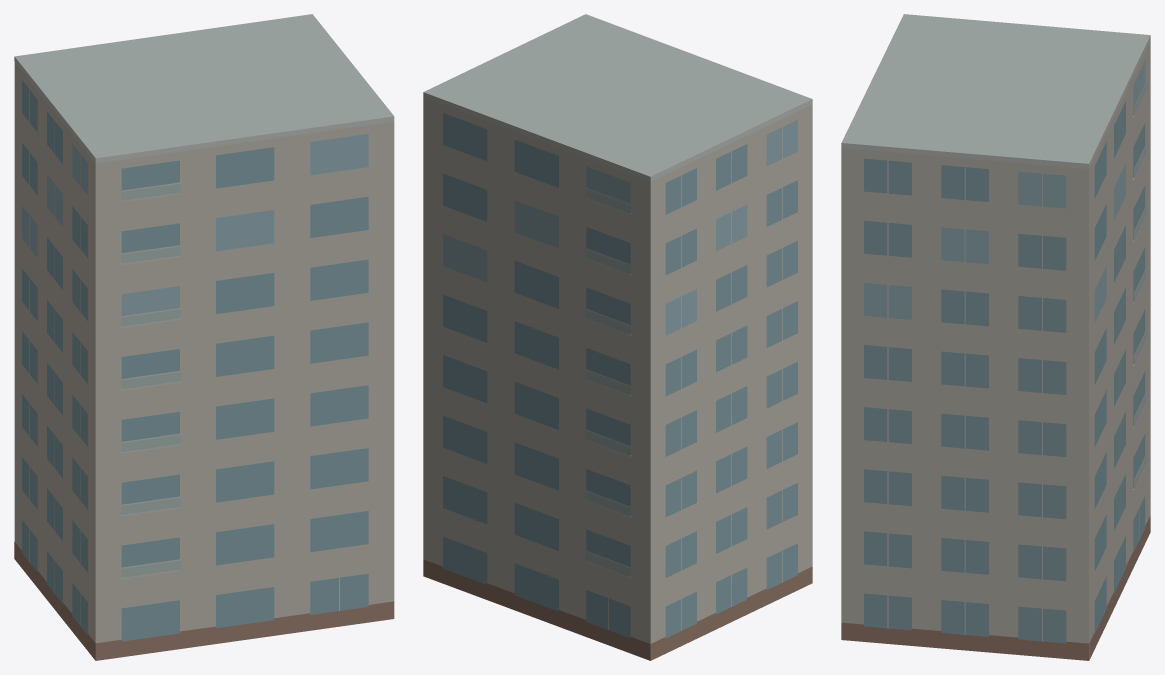
File: survey-upis-32654736.glb
3 views of the same model, side by side, from view 1: azimuth 30°, elevation 25°; view 2: azimuth 150°, elevation 25°; view 3: azimuth 270°, elevation 25° (orthographic). The views are drawn at different scales.
Visible parts, largest first — view 1: survey-upis-32654736.tmp; view 2: survey-upis-32654736.tmp; view 3: survey-upis-32654736.tmp.
Part boxes in pixels (x1=…): survey-upis-32654736.tmp: x1=14, y1=14, x2=394, y2=660; survey-upis-32654736.tmp: x1=423, y1=14, x2=812, y2=660; survey-upis-32654736.tmp: x1=841, y1=14, x2=1150, y2=660.
Size of the model in its own units: 15.14 by 23.4 by 13.21.
